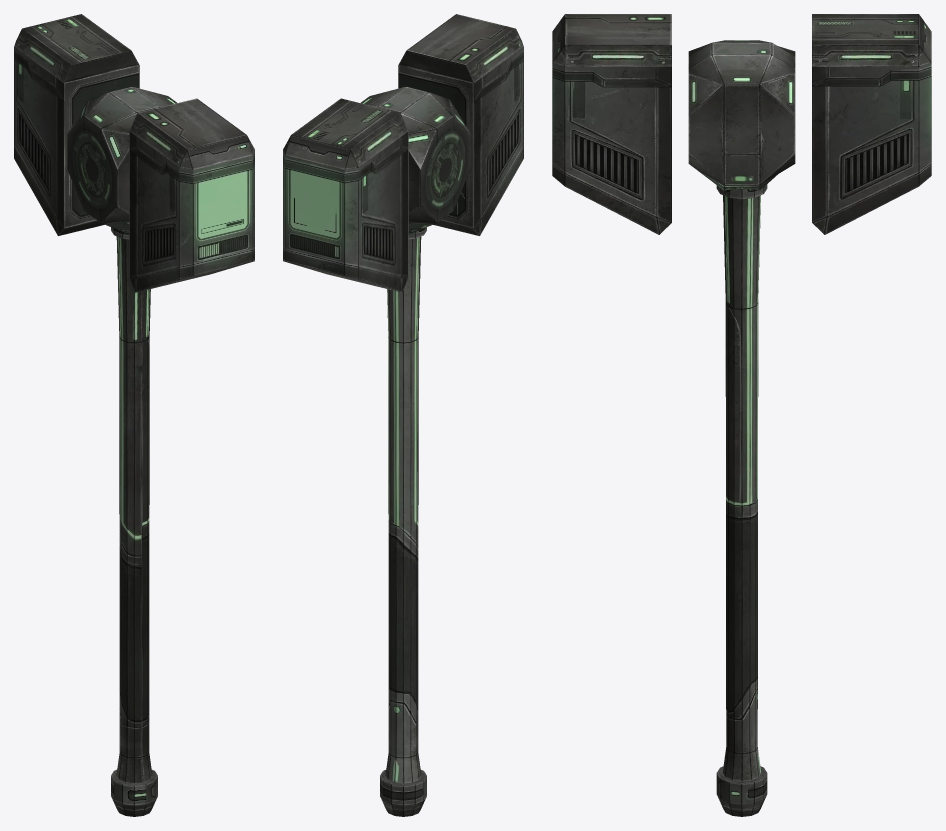
Rendered from tampered_hammer.glb.
3 views of the same model, side by side, from view 1: azimuth 30°, elevation 25°; view 2: azimuth 150°, elevation 25°; view 3: azimuth 270°, elevation 25° (orthographic). The views are drawn at different scales.
Visible parts, largest first — view 1: tampered_hammer; view 2: tampered_hammer; view 3: tampered_hammer.
Boxes of the visible parts, x1=… form: tampered_hammer: x1=14, y1=14, x2=254, y2=816; tampered_hammer: x1=283, y1=14, x2=523, y2=816; tampered_hammer: x1=552, y1=14, x2=931, y2=816.
Bounding box in the file's own units: 0.1812 × 1.5 × 0.6604.
1 material, 1 textured.
